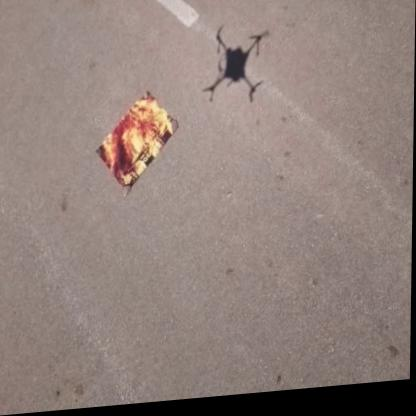fire-poster: (96, 89, 181, 200)
